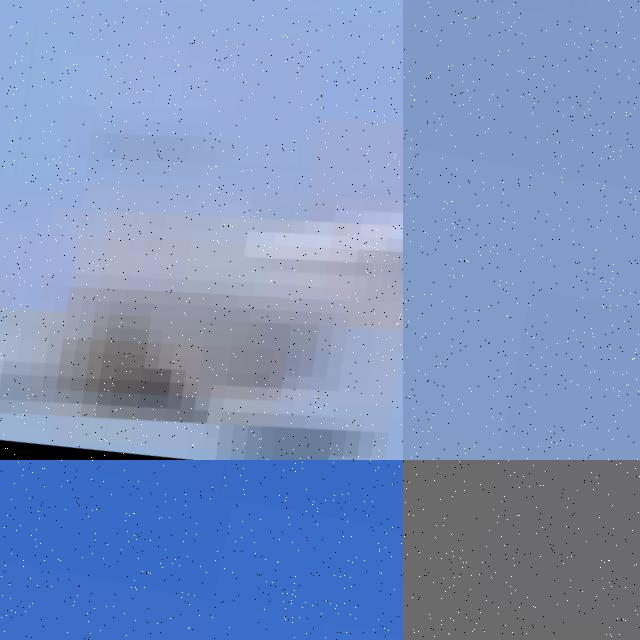drone: (0, 0, 403, 460)
